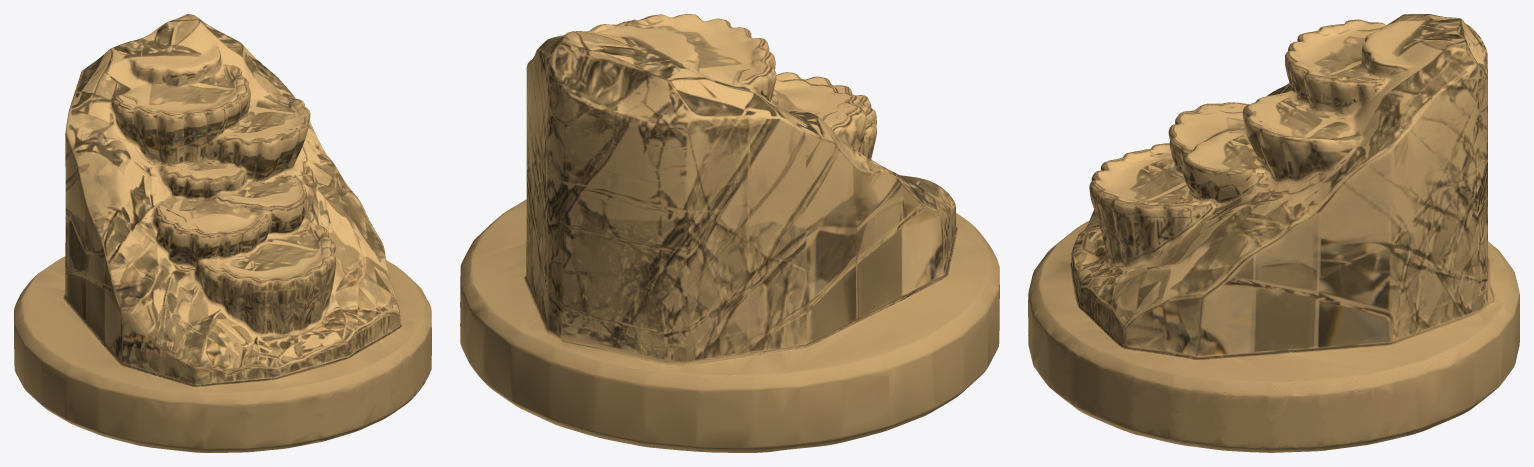
Rendered from pamukkale.glb.
3 views of the same model, side by side, from view 1: azimuth 30°, elevation 25°; view 2: azimuth 150°, elevation 25°; view 3: azimuth 270°, elevation 25° (orthographic). The views are drawn at different scales.
Visible parts, largest first — view 1: Mesh_0; view 2: Mesh_0; view 3: Mesh_0.
Part boxes in pixels (x1,y1,x2,y2): Mesh_0: [14, 14, 431, 452]; Mesh_0: [460, 14, 999, 452]; Mesh_0: [1028, 14, 1519, 452].
Bounding box in the file's own units: 1.91 × 1.43 × 1.91.
1 material, 1 textured.
